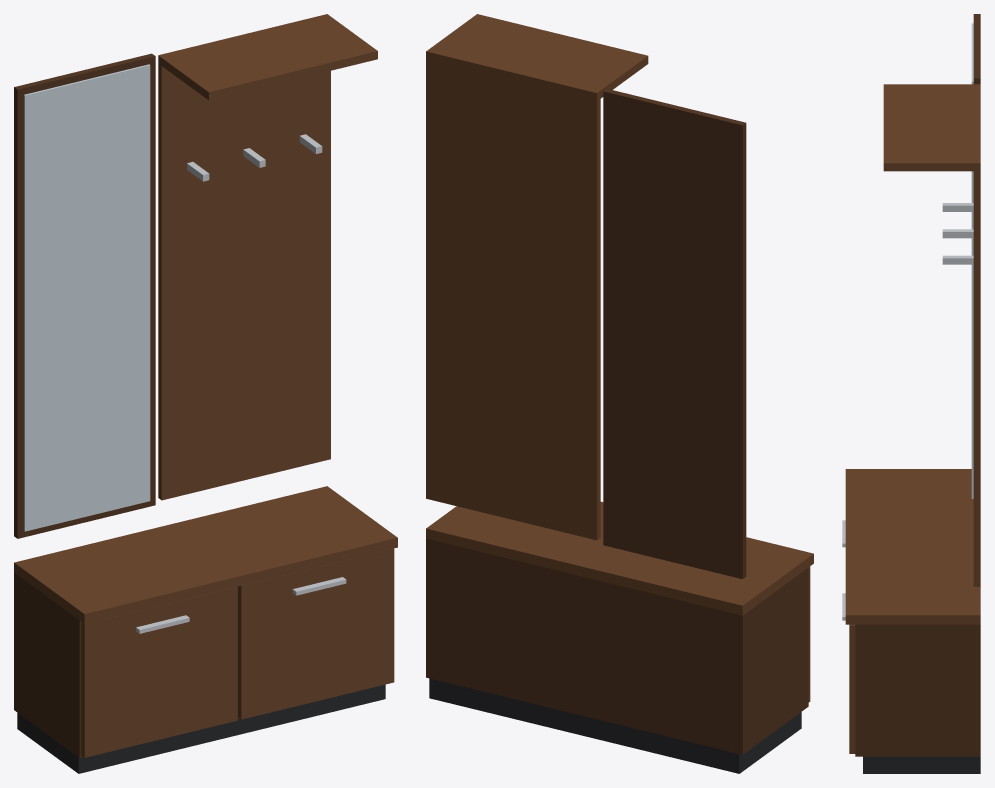
File: vestiyer-1000-ceviz.glb
3 views of the same model, side by side, from view 1: azimuth 30°, elevation 25°; view 2: azimuth 150°, elevation 25°; view 3: azimuth 270°, elevation 25° (orthographic). The views are drawn at different scales.
Parts seen in each view (by area): view 1: mobilya; view 2: mobilya; view 3: mobilya.
Part boxes in pixels (x1=…): mobilya: x1=14, y1=14, x2=397, y2=773; mobilya: x1=426, y1=14, x2=813, y2=773; mobilya: x1=842, y1=14, x2=980, y2=773.
Bounding box in the file's own units: 1 × 1.96 × 0.4.
